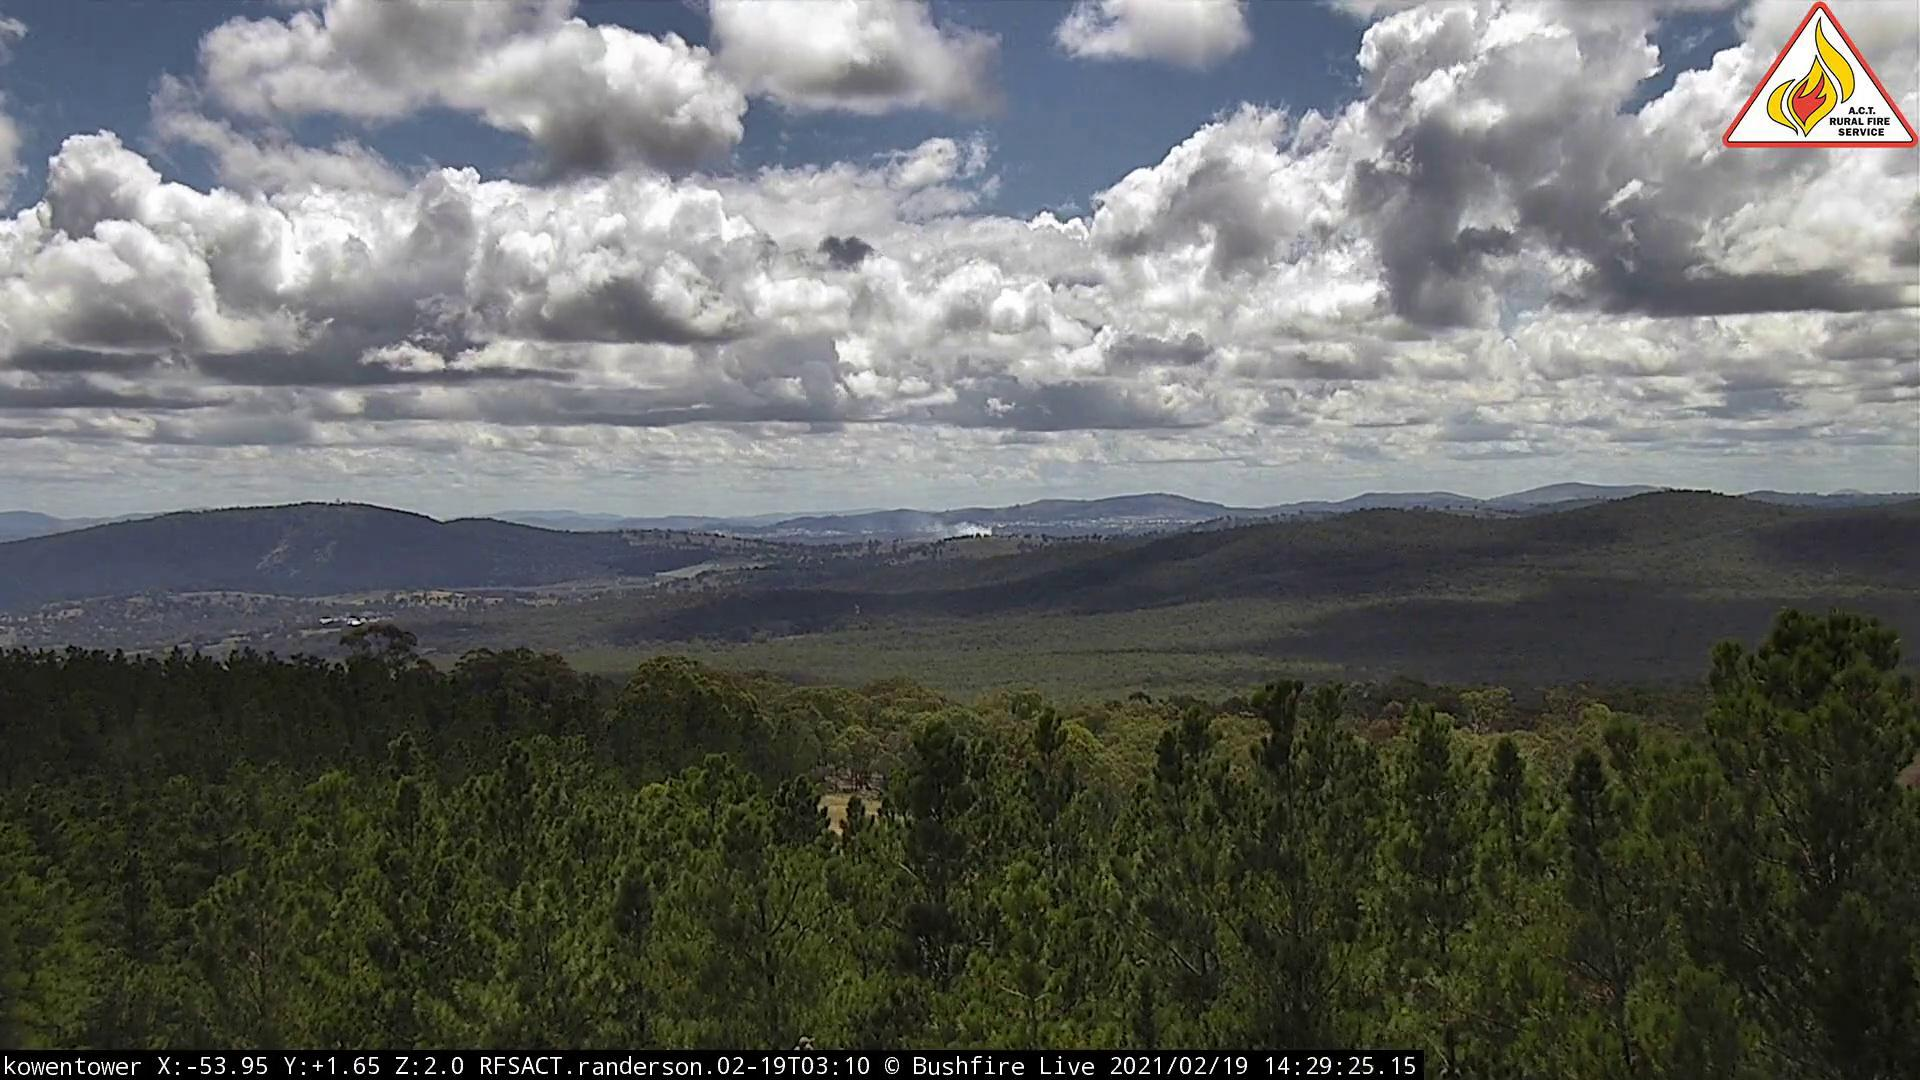Smoke: (882, 491, 1011, 549)
